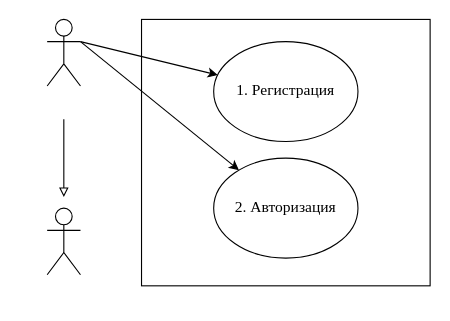
Image size: 450x321. Some labels were removed from this diagram. Here are the shapes that lost their labels. From the top down, the centre of each, then its label:
At (x=63, y=52): "Гость".
At (x=63, y=241): "Пользователь".
